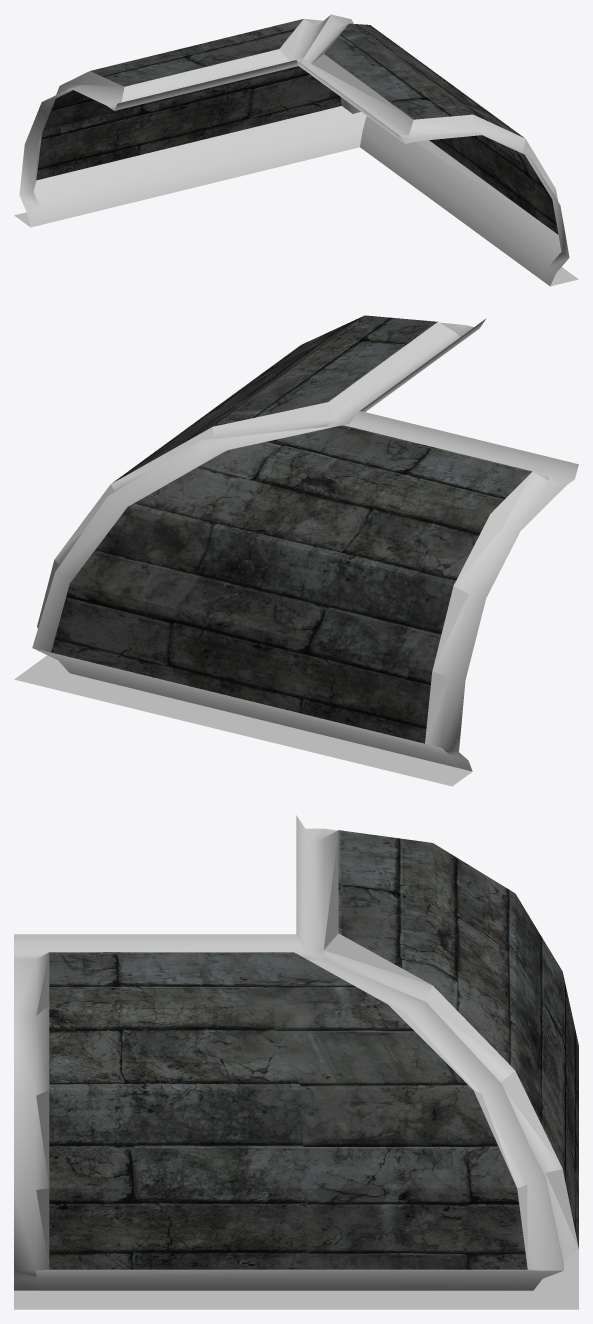
The model's file is corner_concave_flat.dae.
3 renders of one model, top to bottom at view 1: azimuth 30°, elevation 25°; view 2: azimuth 150°, elevation 25°; view 3: azimuth 270°, elevation 25°, orthographic. The views are drawn at different scales.
Parts seen in each view (by area): view 1: polySurface21, polySurface20; view 2: polySurface20, polySurface21; view 3: polySurface20, polySurface21.
Part boxes in pixels (x1,y1,x2,y2): polySurface21: (14, 14, 578, 286); polySurface20: (36, 19, 558, 234); polySurface20: (51, 315, 532, 743); polySurface21: (14, 319, 578, 786); polySurface20: (49, 830, 578, 1269); polySurface21: (14, 815, 578, 1309).
Size of the model in its own units: 4 by 2 by 4.
